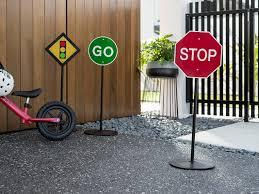Pole: (191, 78, 195, 161), (100, 66, 104, 128), (60, 66, 64, 100)
Sign: (175, 32, 222, 77)
